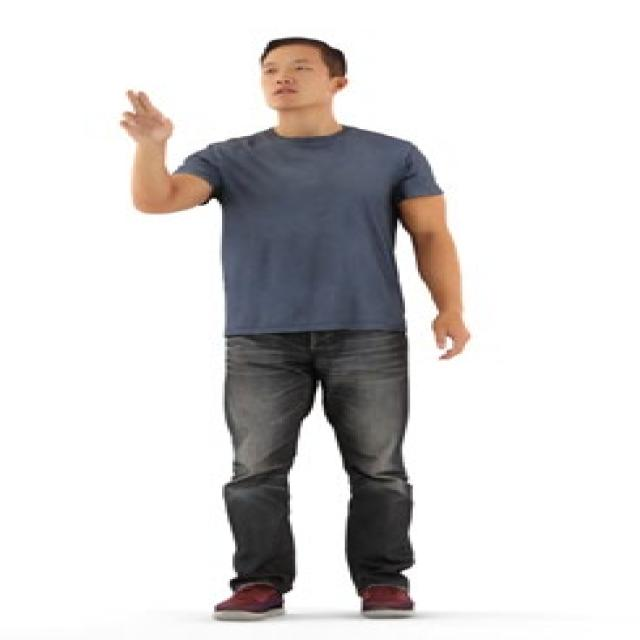standing: (110, 35, 478, 624)
